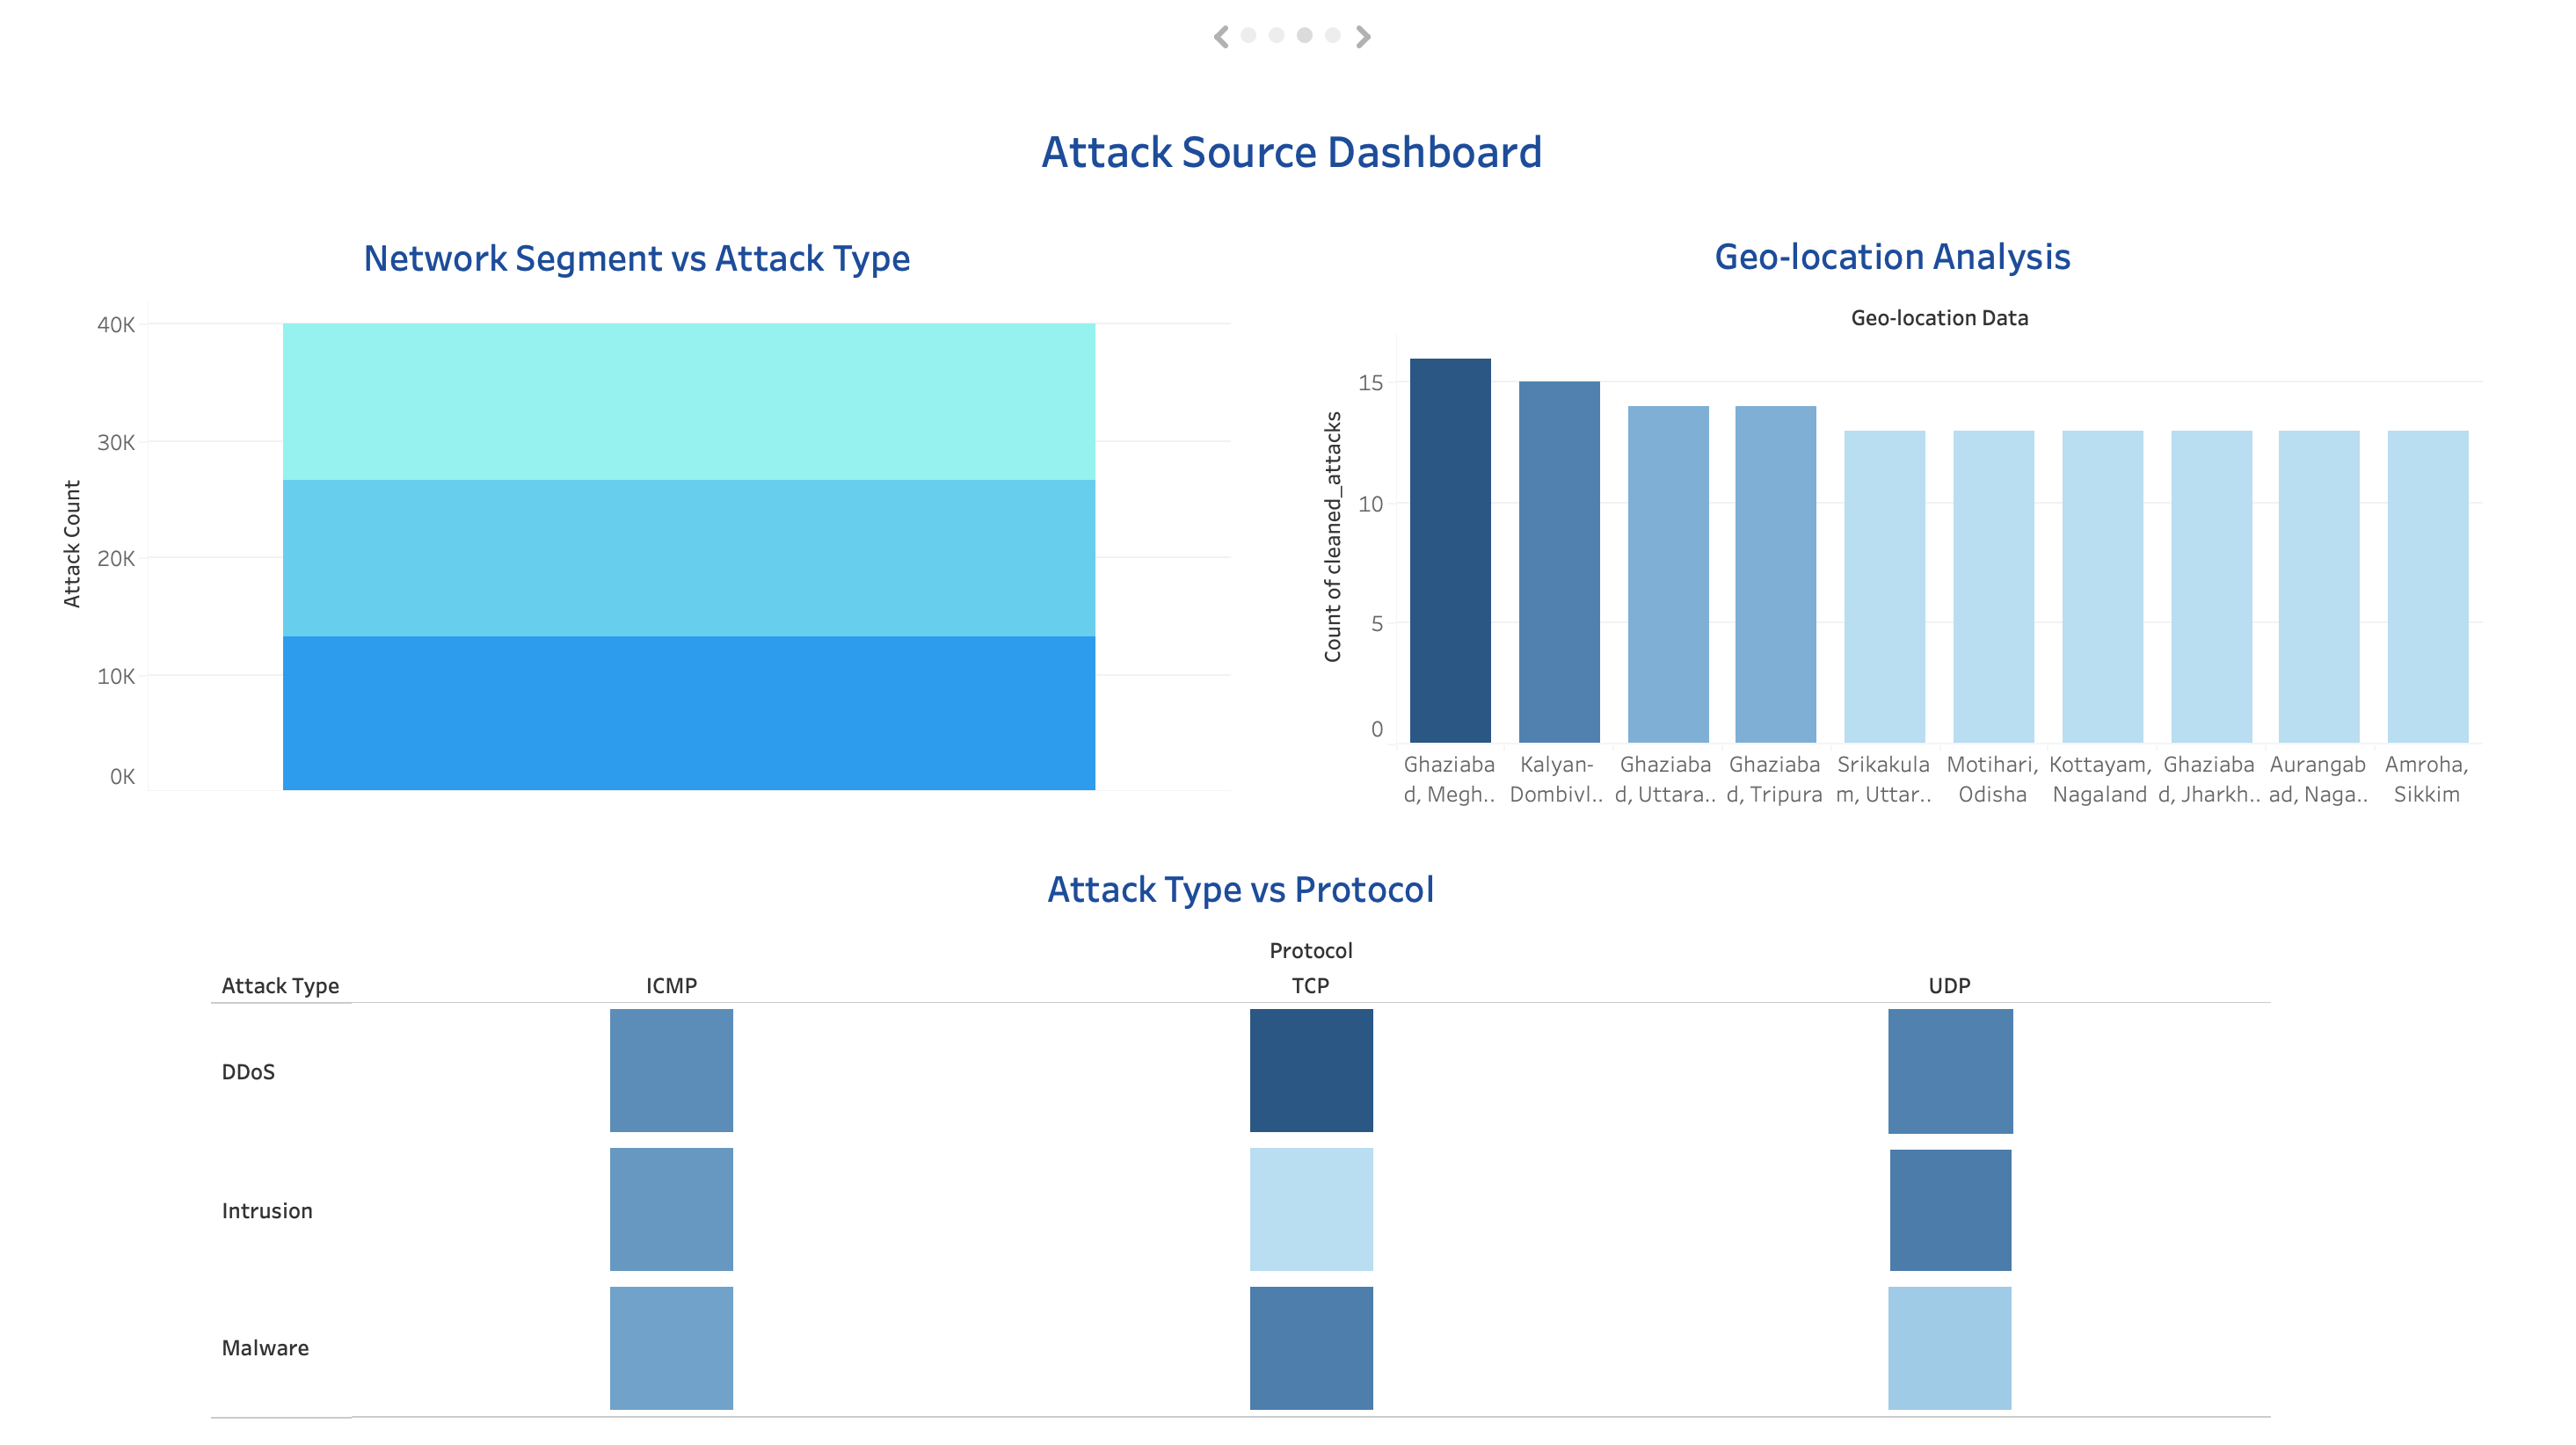

The dashboard page shown, as its layout file describes it:
{"tool":"tableau","page":{"name":"Attack Source Dashboard","canvas":[1000,1000],"units":"permille","ordinal":0},"visuals":[{"type":"title","box":[7.7,11.9,984.6,60.9]},{"type":"worksheet","title":"Geo-location Analysis","mark":"Automatic","rows":["cleaned!attacks_C021D032F8DC42009FD9A4A1662FBCE5"],"cols":["Geo-location Data"],"box":[504.8,90.6,460.5,433.9]},{"type":"worksheet","title":"Network Segment vs Attack Type","mark":"Automatic","rows":["cleaned!attacks_C021D032F8DC42009FD9A4A1662FBCE5"],"box":[11.6,92.1,464.4,416.1]},{"type":"worksheet","title":"Attack Type vs Protocol","mark":"Automatic","rows":["Attack Type"],"cols":["Protocol"],"box":[77.1,555.7,806.4,413.1]}]}

Visuals, with their boxes on the dashboard's canvas, which has no fixed pixel size, in thousandths of its width and height (x1, y1, x2, y2). These are canvas units, not pixel positions in the 2576x1445 screenshot, which may show the page scaled, cropped or inside an application window:
title: left=8, top=12, right=992, bottom=73
"Geo-location Analysis" worksheet: left=505, top=91, right=965, bottom=524
"Network Segment vs Attack Type" worksheet: left=12, top=92, right=476, bottom=508
"Attack Type vs Protocol" worksheet: left=77, top=556, right=884, bottom=969
